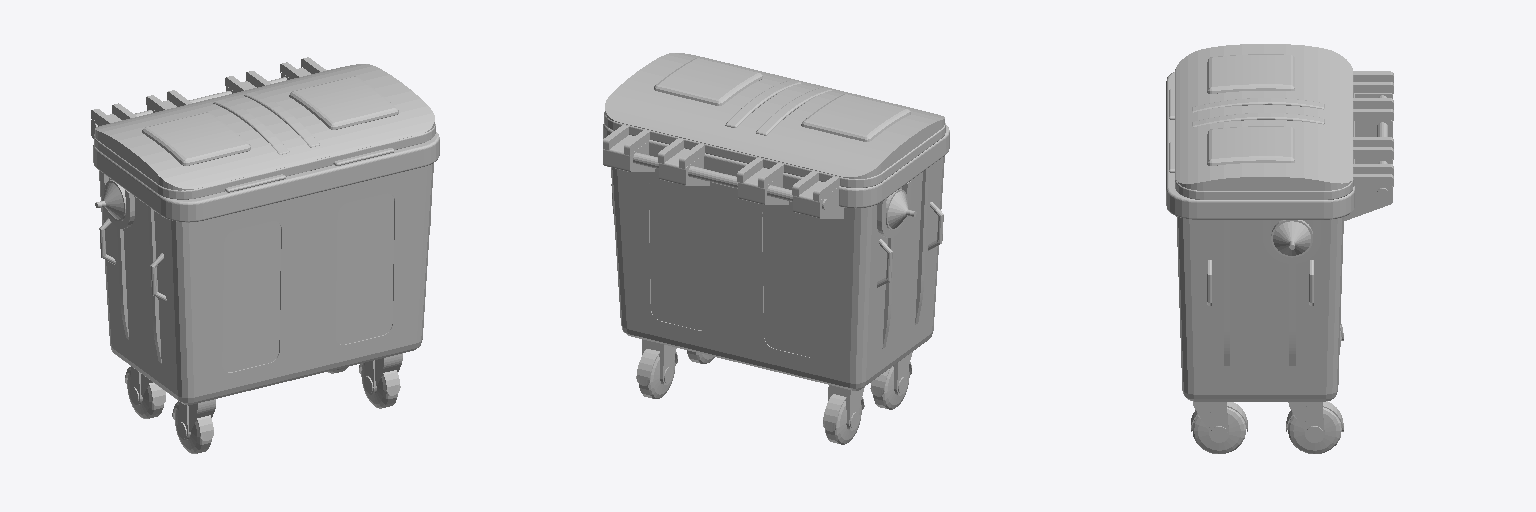
Rendered from Trash box.obj.
3 renders of one model, left to right at view 1: azimuth 30°, elevation 25°; view 2: azimuth 150°, elevation 25°; view 3: azimuth 270°, elevation 25°, orthographic.
Visible parts, largest first — view 1: ChamferBox, Rectangle0, Cone01; view 2: ChamferBox, Rectangle0, Cylinder02, Obj_56.Obj_65, Obj_56.Obj_59, Obj_58.Obj_67, Cone01, Obj_58.Obj_64, Obj_58.Obj_61, Line01.Line20, Line01.Line24; view 3: ChamferBox, Rectangle0, Obj_57, Obj_57.Obj_60, Cone01.Cone02.
Part boxes in pixels (bbox=[...]): ChamferBox: bbox=[91, 68, 439, 404]; Rectangle0: bbox=[91, 57, 435, 199]; Cone01: bbox=[103, 183, 123, 219]; ChamferBox: bbox=[603, 123, 949, 390]; Rectangle0: bbox=[603, 53, 945, 201]; Cylinder02: bbox=[633, 152, 829, 209]; Obj_56.Obj_65: bbox=[823, 394, 864, 431]; Obj_56.Obj_59: bbox=[636, 349, 677, 385]; Obj_58.Obj_67: bbox=[831, 401, 861, 444]; Cone01: bbox=[888, 191, 908, 228]; Obj_58.Obj_64: bbox=[879, 366, 909, 409]; Obj_58.Obj_61: bbox=[645, 355, 675, 398]; Line01.Line20: bbox=[642, 339, 672, 384]; Line01.Line24: bbox=[828, 385, 858, 430]; ChamferBox: bbox=[1166, 72, 1392, 401]; Rectangle0: bbox=[1169, 44, 1393, 199]; Obj_57: bbox=[1192, 407, 1245, 453]; Obj_57.Obj_60: bbox=[1288, 407, 1341, 453]; Cone01.Cone02: bbox=[1273, 221, 1310, 255].
Bounding box in the file's own units: 1472 × 1383 × 946.